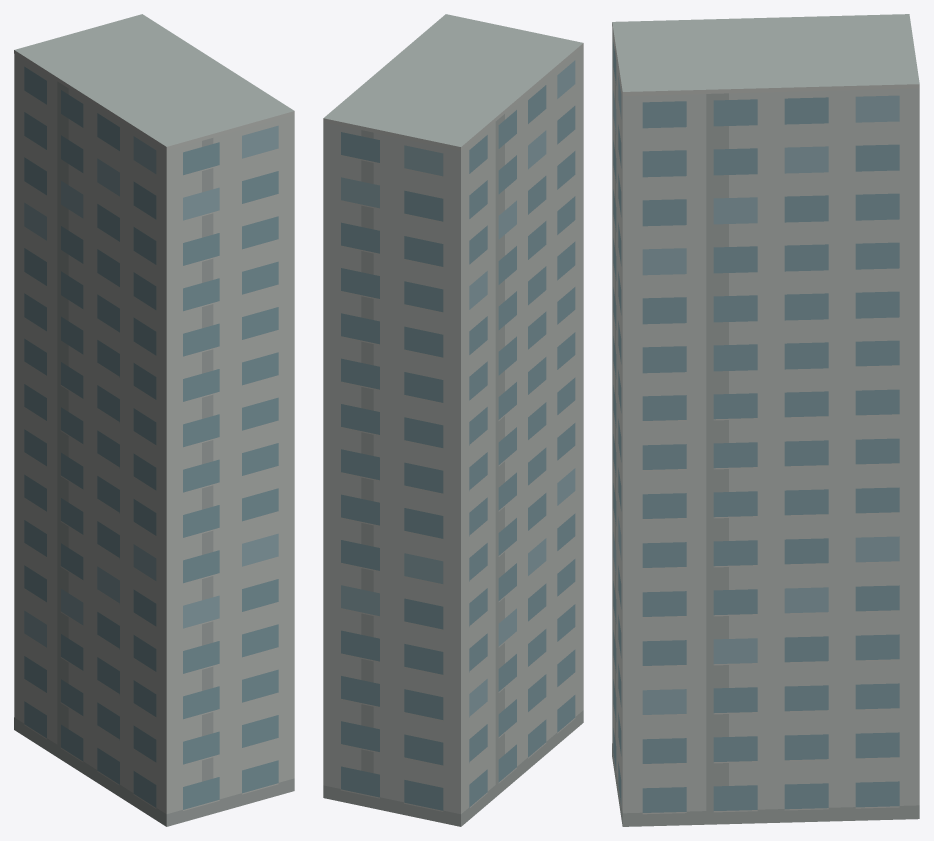
Rendered from residential-0fd44ff9-3c08-45ec-8cbb-66c59cebbe9f.glb.
The picture shows the model from 3 angles, left to right: view 1: azimuth 30°, elevation 25°; view 2: azimuth 150°, elevation 25°; view 3: azimuth 270°, elevation 25°; orthographic projection. The views are drawn at different scales.
Parts seen in each view (by area): view 1: residential-0fd44ff9-3c08-45ec-8cbb-66c59cebbe9f.tmp; view 2: residential-0fd44ff9-3c08-45ec-8cbb-66c59cebbe9f.tmp; view 3: residential-0fd44ff9-3c08-45ec-8cbb-66c59cebbe9f.tmp.
Part boxes in pixels (left/top/right/bottom): residential-0fd44ff9-3c08-45ec-8cbb-66c59cebbe9f.tmp: left=14, top=14, right=294, bottom=826; residential-0fd44ff9-3c08-45ec-8cbb-66c59cebbe9f.tmp: left=323, top=14, right=583, bottom=826; residential-0fd44ff9-3c08-45ec-8cbb-66c59cebbe9f.tmp: left=612, top=14, right=919, bottom=826.
Size of the model in its own units: 9.8 by 43 by 16.32.
